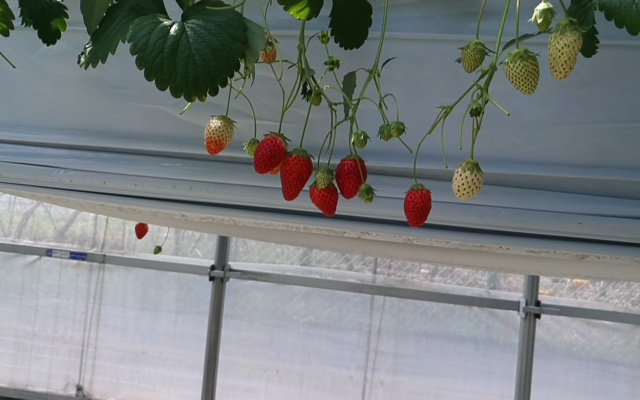GreenStrawberry: (499, 45, 543, 98), (545, 22, 583, 83), (450, 158, 486, 202), (201, 113, 236, 156), (457, 36, 490, 75), (257, 38, 276, 66), (315, 164, 334, 188), (352, 130, 369, 151), (390, 120, 407, 138), (359, 185, 375, 204), (378, 122, 393, 142), (246, 138, 258, 157)
MatureStrawberry: (278, 146, 315, 204), (249, 128, 291, 175), (335, 152, 369, 201), (402, 183, 433, 230), (308, 177, 340, 218)
